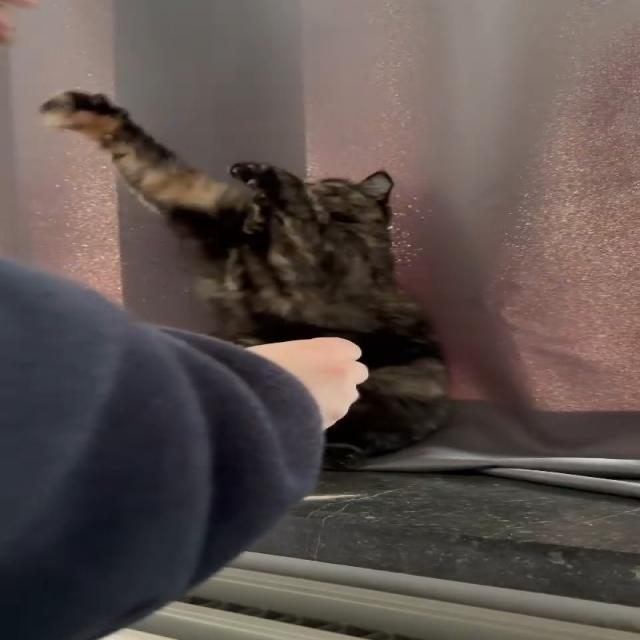authorized: (38, 88, 454, 468)
